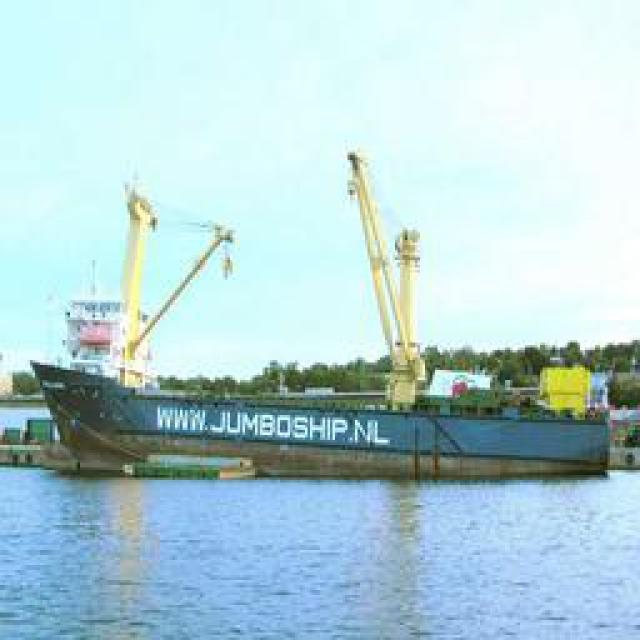Ship: (41, 365, 619, 478)
